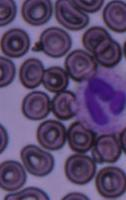N: (73, 68, 126, 134)
